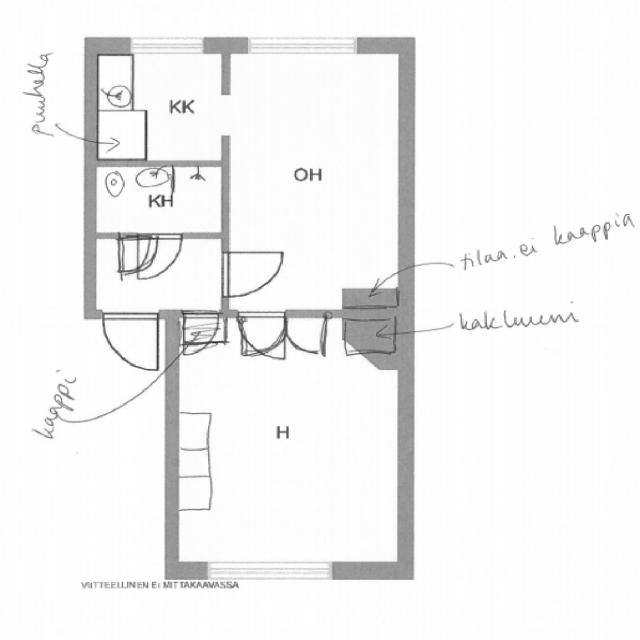door: (213, 246, 291, 303), (95, 311, 163, 376), (235, 308, 288, 363)
window: (198, 557, 337, 587), (242, 34, 362, 58), (124, 35, 209, 56)
zone: (170, 314, 403, 576), (226, 43, 408, 311), (93, 50, 225, 163), (90, 235, 228, 314), (90, 161, 224, 237)
